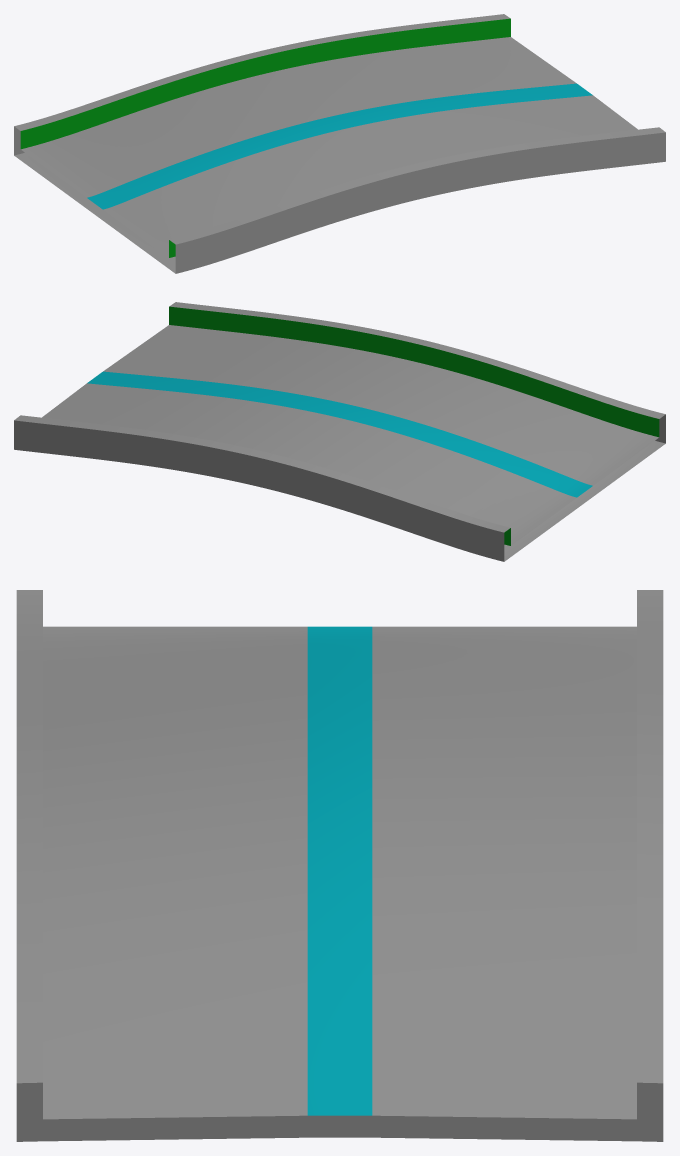
The model's file is mesh_road_bump_up.FBX.
The picture shows the model from 3 angles, top to bottom: view 1: azimuth 30°, elevation 25°; view 2: azimuth 150°, elevation 25°; view 3: azimuth 270°, elevation 25°; orthographic projection. The views are drawn at different scales.
Visible parts, largest first — view 1: Box001; view 2: Box001; view 3: Box001.
Boxes of the visible parts, bbox=[...] form: Box001: bbox=[14, 14, 665, 273]; Box001: bbox=[14, 302, 665, 561]; Box001: bbox=[16, 590, 663, 1141].
Size of the model in its own units: 70 by 7.18 by 40.
